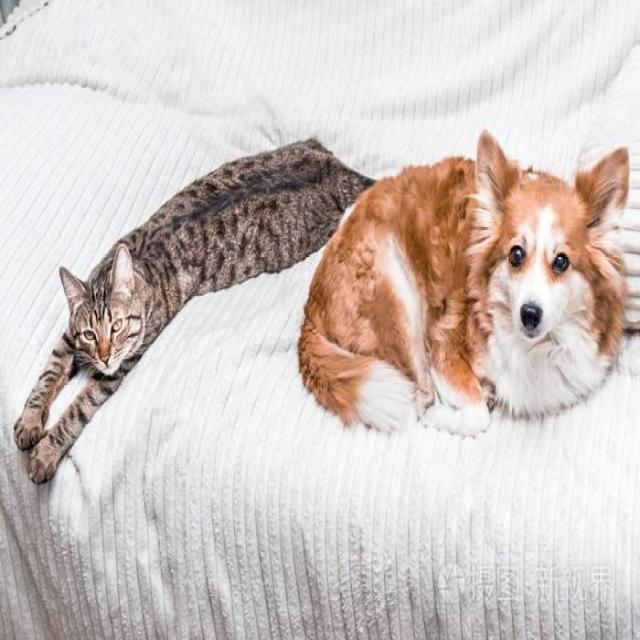cat: (22, 205, 196, 456)
dog: (445, 102, 629, 410)
